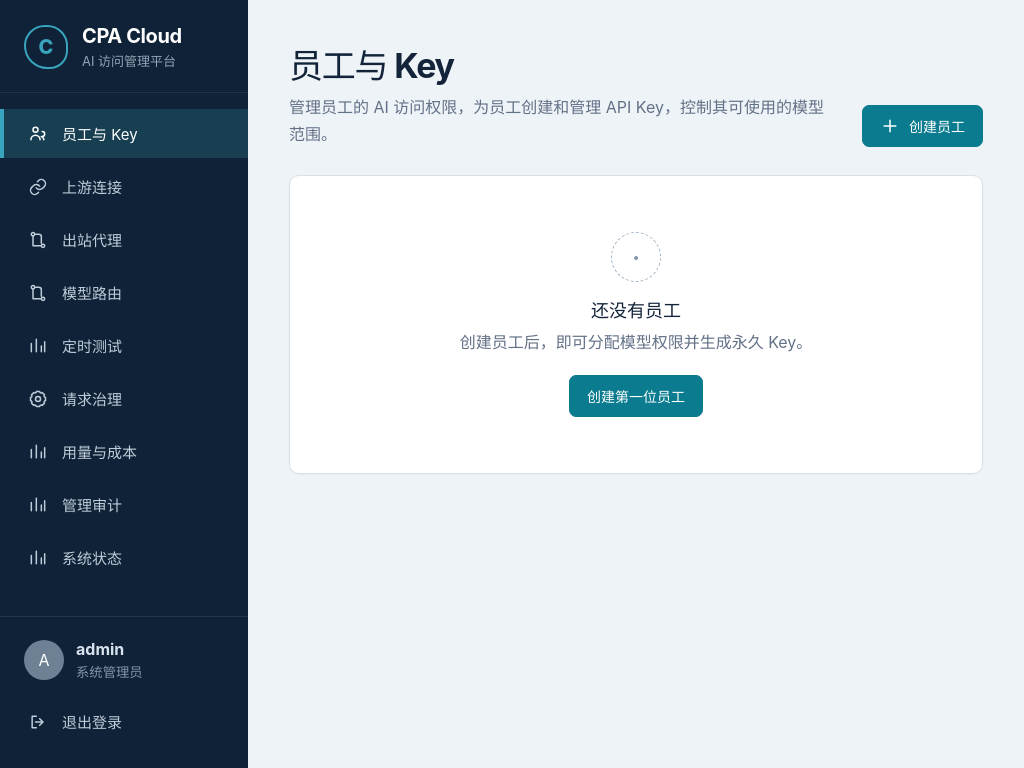
it: audit capability negotiation › shows the gated navigation and loads audit only after the administrator opens it
Click the button "管理审计" at (124, 504), box 0,480 -> 248,529
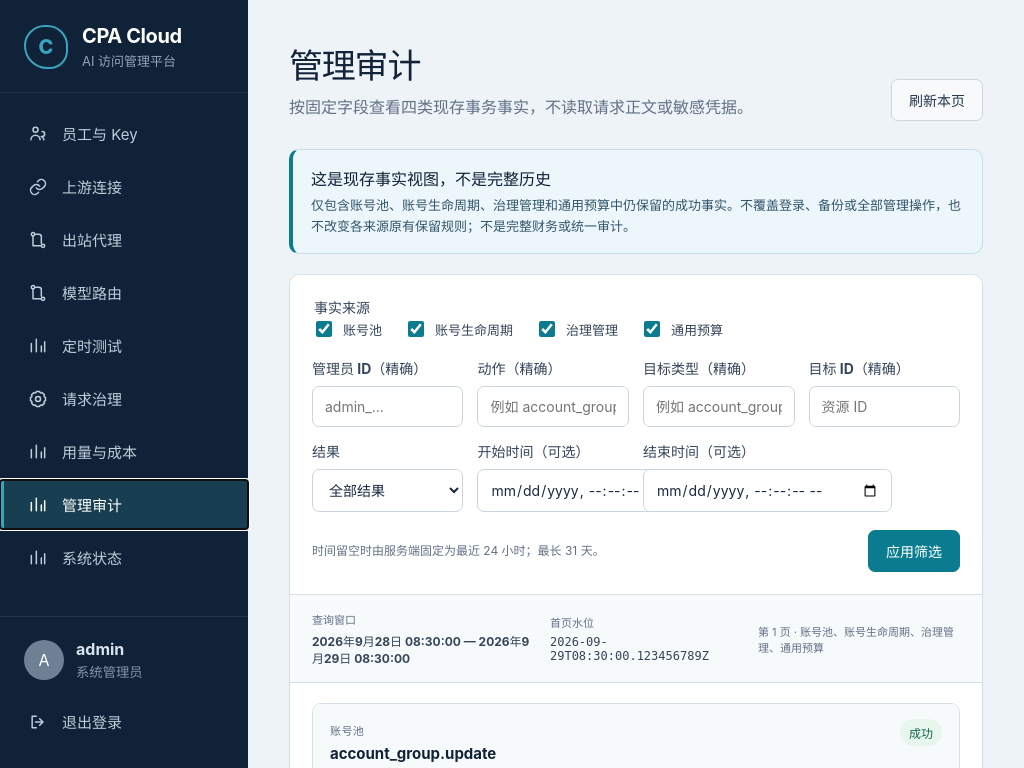
Now the heading "管理审计" is shown, box 289,45 -> 420,86
Now the text "account_group.update" is shown, box 330,744 -> 496,763
